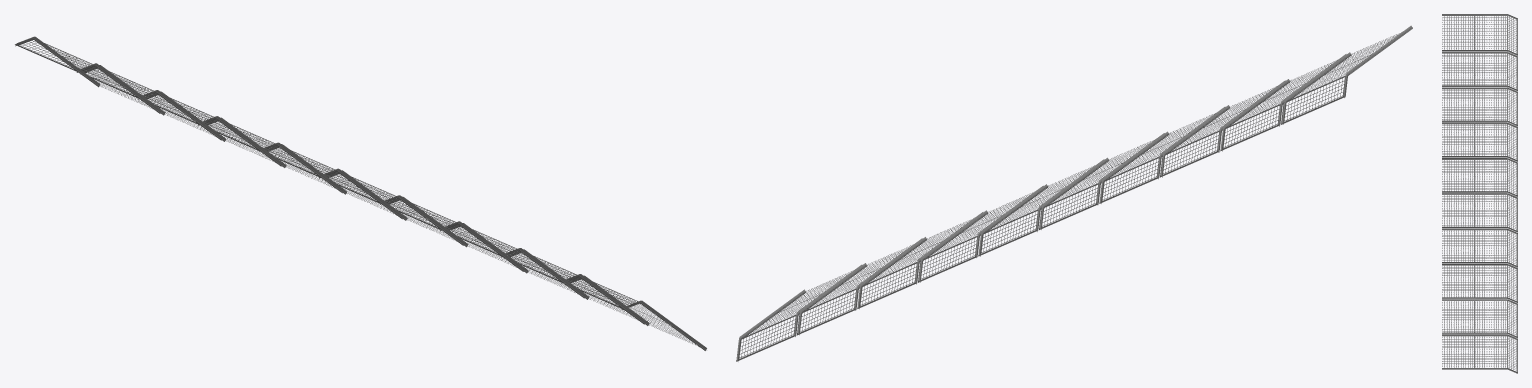
Rendered from _1WALL_18_SUB1.obj.
The picture shows the model from 3 angles, left to right: view 1: azimuth 30°, elevation 25°; view 2: azimuth 150°, elevation 25°; view 3: azimuth 270°, elevation 25°; orthographic projection. The views are drawn at different scales.
Parts seen in each view (by area): view 1: _1WALL_18_SUB1_Scene.287; view 2: _1WALL_18_SUB1_Scene.287; view 3: _1WALL_18_SUB1_Scene.287.
Boxes of the visible parts, x1=… form: _1WALL_18_SUB1_Scene.287: x1=15, y1=36, x2=706, y2=350; _1WALL_18_SUB1_Scene.287: x1=736, y1=25, x2=1412, y2=361; _1WALL_18_SUB1_Scene.287: x1=1442, y1=14, x2=1517, y2=373.
Bounding box in the file's own units: 1712 × 1133 × 365.
